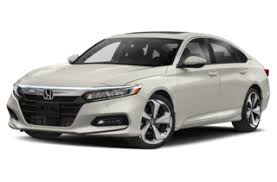Honda: (7, 33, 269, 147)
